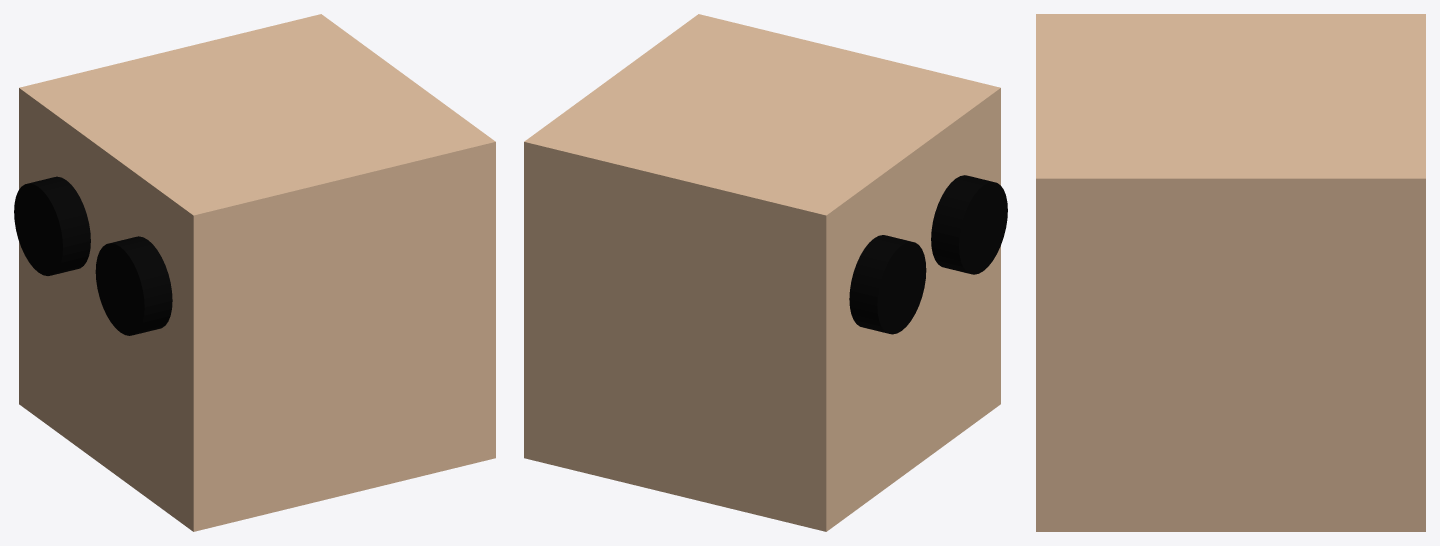
The model's file is Player.fbx.
3 views of the same model, side by side, from view 1: azimuth 30°, elevation 25°; view 2: azimuth 150°, elevation 25°; view 3: azimuth 270°, elevation 25° (orthographic). The views are drawn at different scales.
Parts seen in each view (by area): view 1: Player; view 2: Player; view 3: Player.
Boxes of the visible parts, box(x1,y1,x2,y2) form: Player: box(14, 14, 495, 531); Player: box(524, 14, 1007, 531); Player: box(1036, 14, 1425, 531).
Bounding box in the file's own units: 218 × 200 × 200.
